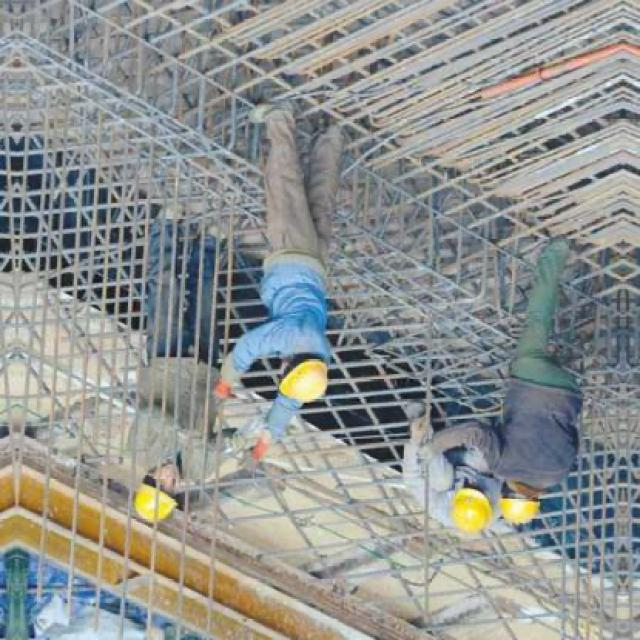con casco: (268, 334, 336, 412), (130, 457, 198, 532), (484, 479, 551, 539), (454, 478, 491, 534)
